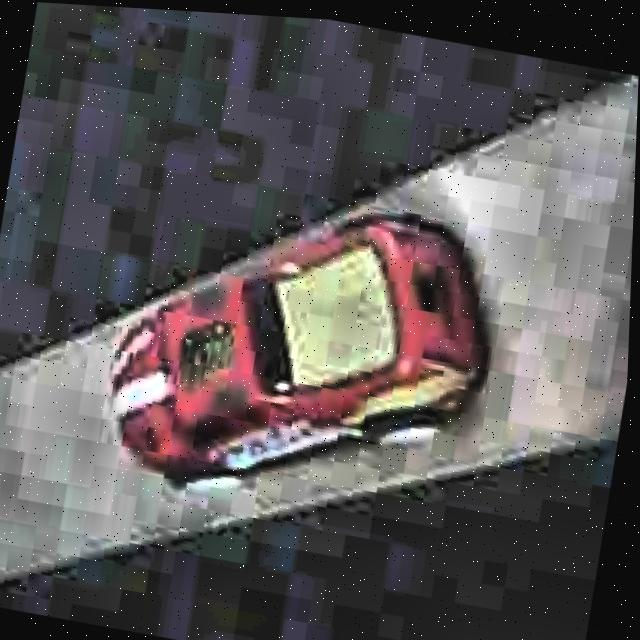car: (85, 157, 516, 545)
